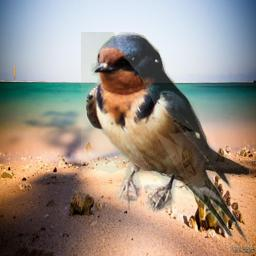Swallow: (81, 32, 249, 245)
